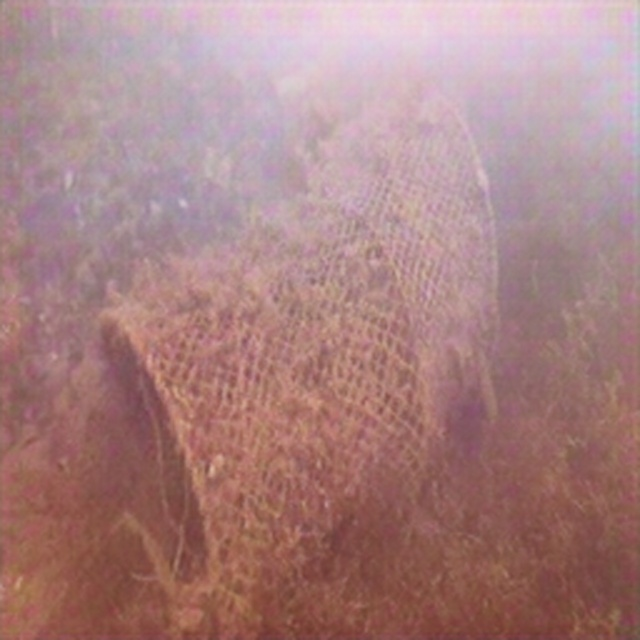mine: (93, 84, 496, 639)
